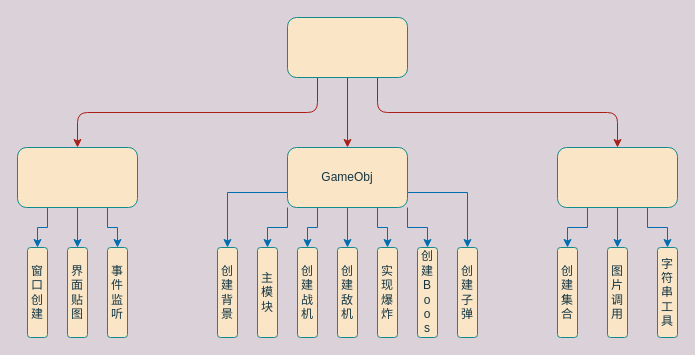
This 695x355 diagram has some shape labels left out. Each missing label, with the box of its shape:
GameUtils: (556, 146, 678, 208)
GameWin: (16, 146, 138, 208)
飞机大战: (286, 16, 408, 78)
